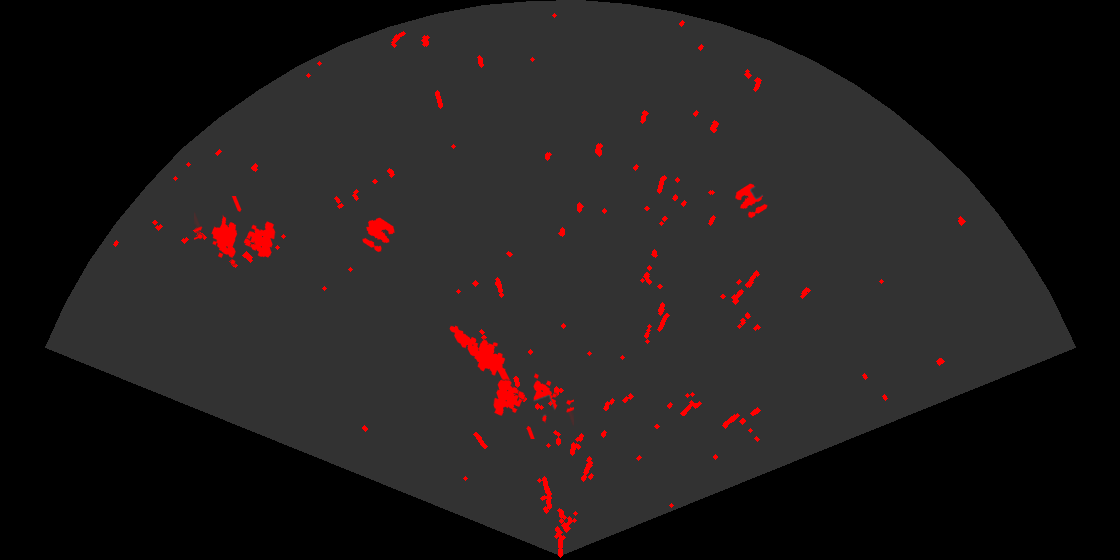ball: (734, 182, 769, 220), (361, 216, 396, 254)
cage: (194, 196, 277, 266), (492, 372, 574, 439)
frogman: (448, 324, 515, 388)
